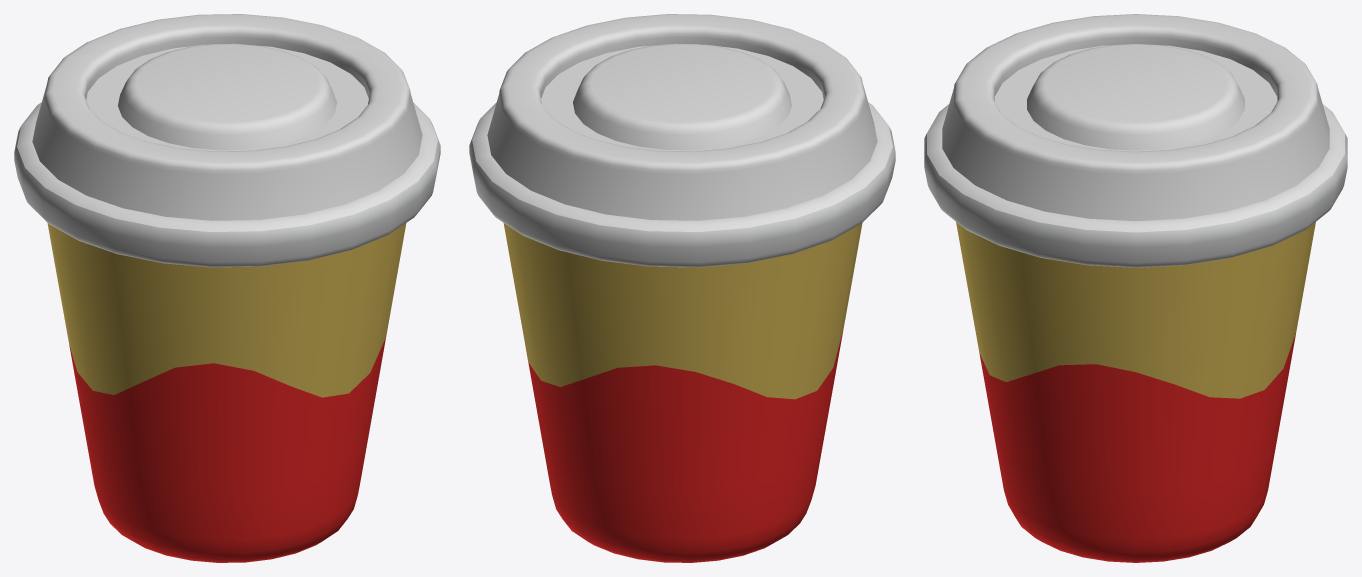
Rendered from CoffeeGlass2.fbx.
The picture shows the model from 3 angles, left to right: view 1: azimuth 30°, elevation 25°; view 2: azimuth 150°, elevation 25°; view 3: azimuth 270°, elevation 25°; orthographic projection.
Parts seen in each view (by area): view 1: CoffeeGlass2; view 2: CoffeeGlass2; view 3: CoffeeGlass2.
Boxes of the visible parts, left/top/right/bottom form: CoffeeGlass2: left=14, top=14, right=440, bottom=562; CoffeeGlass2: left=469, top=14, right=895, bottom=562; CoffeeGlass2: left=924, top=14, right=1347, bottom=562.
Bounding box in the file's own units: 41.63 × 46.63 × 41.32.
Materials: 1 (1 with a texture image).
